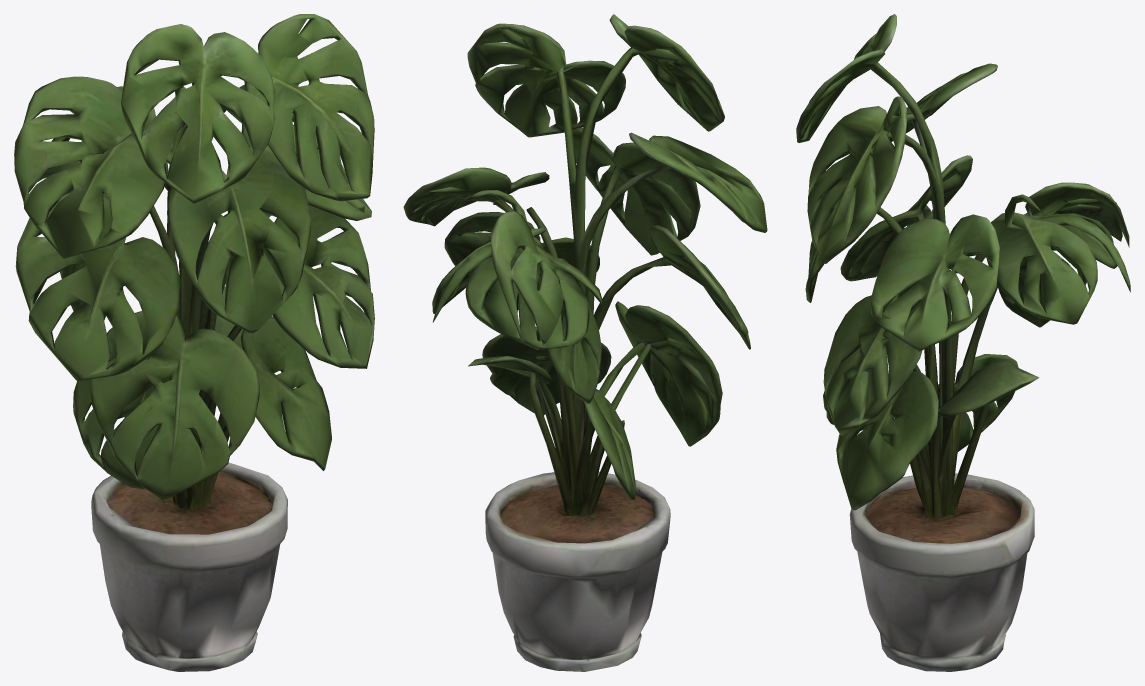
File: plant-lite.glb
The picture shows the model from 3 angles, left to right: view 1: azimuth 30°, elevation 25°; view 2: azimuth 150°, elevation 25°; view 3: azimuth 270°, elevation 25°; orthographic projection. The views are drawn at different scales.
Parts seen in each view (by area): view 1: node_0; view 2: node_0; view 3: node_0.
Part boxes in pixels (x1,y1,x2,y2): node_0: [14, 14, 374, 671]; node_0: [403, 14, 767, 671]; node_0: [796, 14, 1130, 671].
Bounding box in the file's own units: 0.6395 × 1.16 × 0.5807.
1 material, 1 textured.
